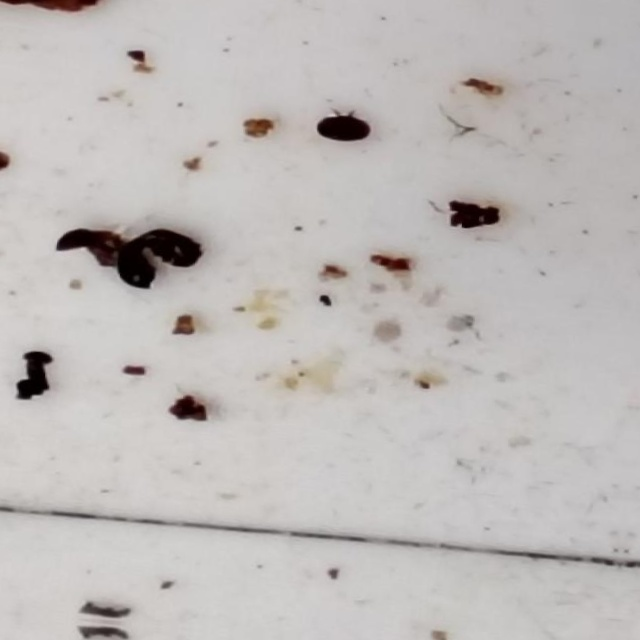varroa: (143, 227, 211, 267), (113, 242, 158, 296), (311, 111, 373, 147)
